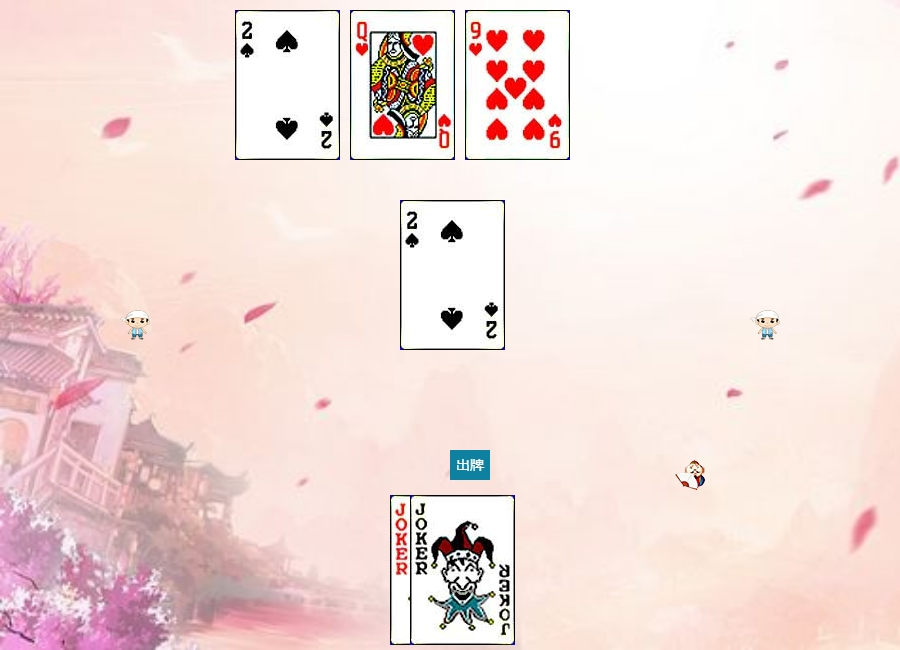12~3: (350, 10, 455, 160)
15~4: (235, 10, 340, 160), (400, 200, 505, 350)
17~3: (410, 495, 515, 645)
18~4: (390, 495, 495, 645)
9~3: (465, 10, 570, 160)
